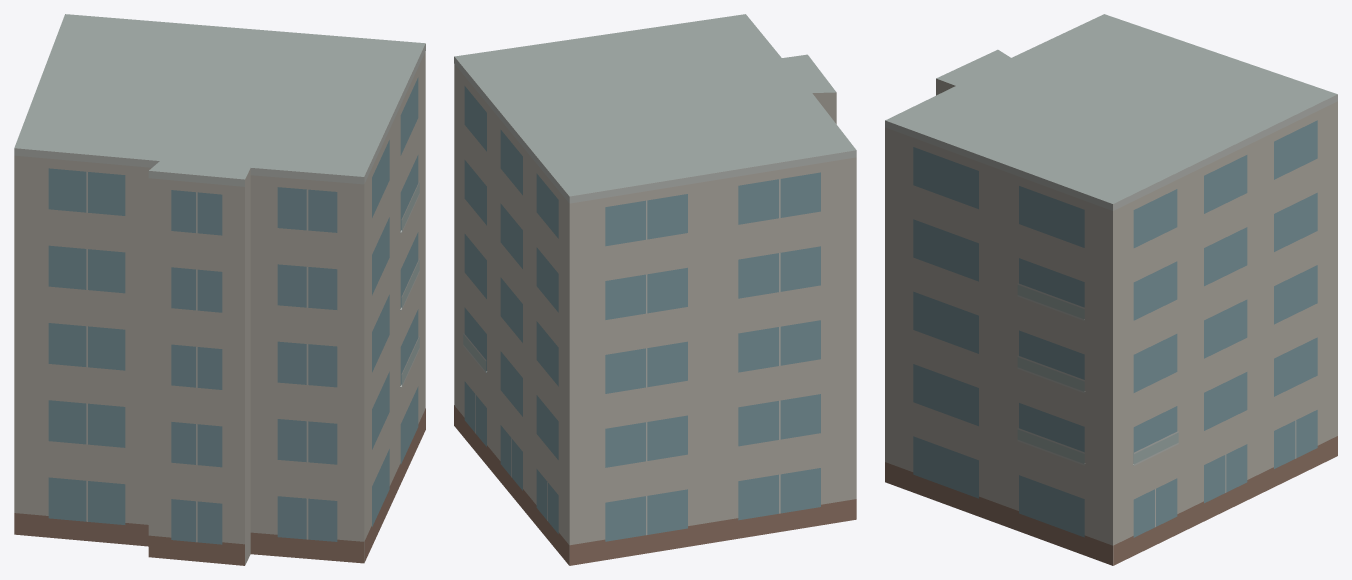
File: survey-upis-32687351.glb
The picture shows the model from 3 angles, left to right: view 1: azimuth 30°, elevation 25°; view 2: azimuth 150°, elevation 25°; view 3: azimuth 270°, elevation 25°; orthographic projection. The views are drawn at different scales.
Visible parts, largest first — view 1: survey-upis-32687351.tmp; view 2: survey-upis-32687351.tmp; view 3: survey-upis-32687351.tmp.
Boxes of the visible parts, x1,y1,x2,y2 form: survey-upis-32687351.tmp: (14,14,425,565); survey-upis-32687351.tmp: (454,14,856,565); survey-upis-32687351.tmp: (885,14,1337,565).
Bounding box in the file's own units: 14.33 × 12.7 × 14.41.
